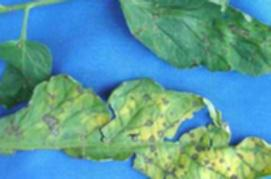Tomato Septoria leaf spot: (0, 70, 271, 179), (94, 0, 271, 88)
